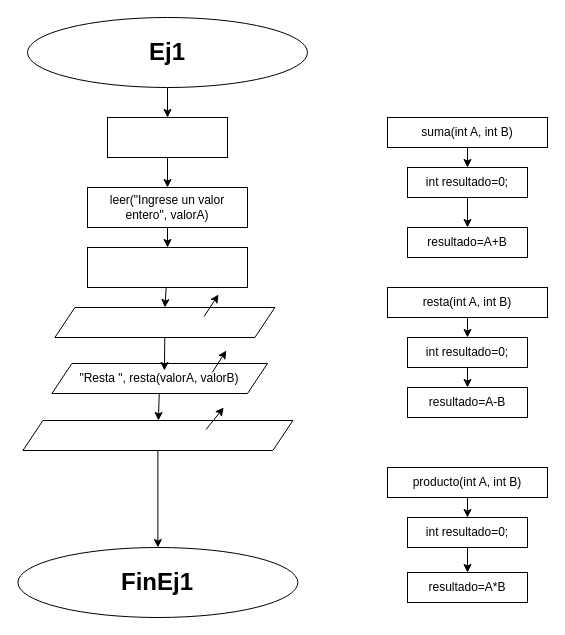
Image size: 565x635. Some labels were removed from this diagram. Each missing label, with the centre of its shape:
"Producto ", producto(valorA, valorB): point (157, 435)
"Suma ", suma(valorA, valorB): point (164, 322)
int valorA=0, valorB=0;: point (167, 137)
leer("Ingrese un valor entero", valorB): point (167, 267)
